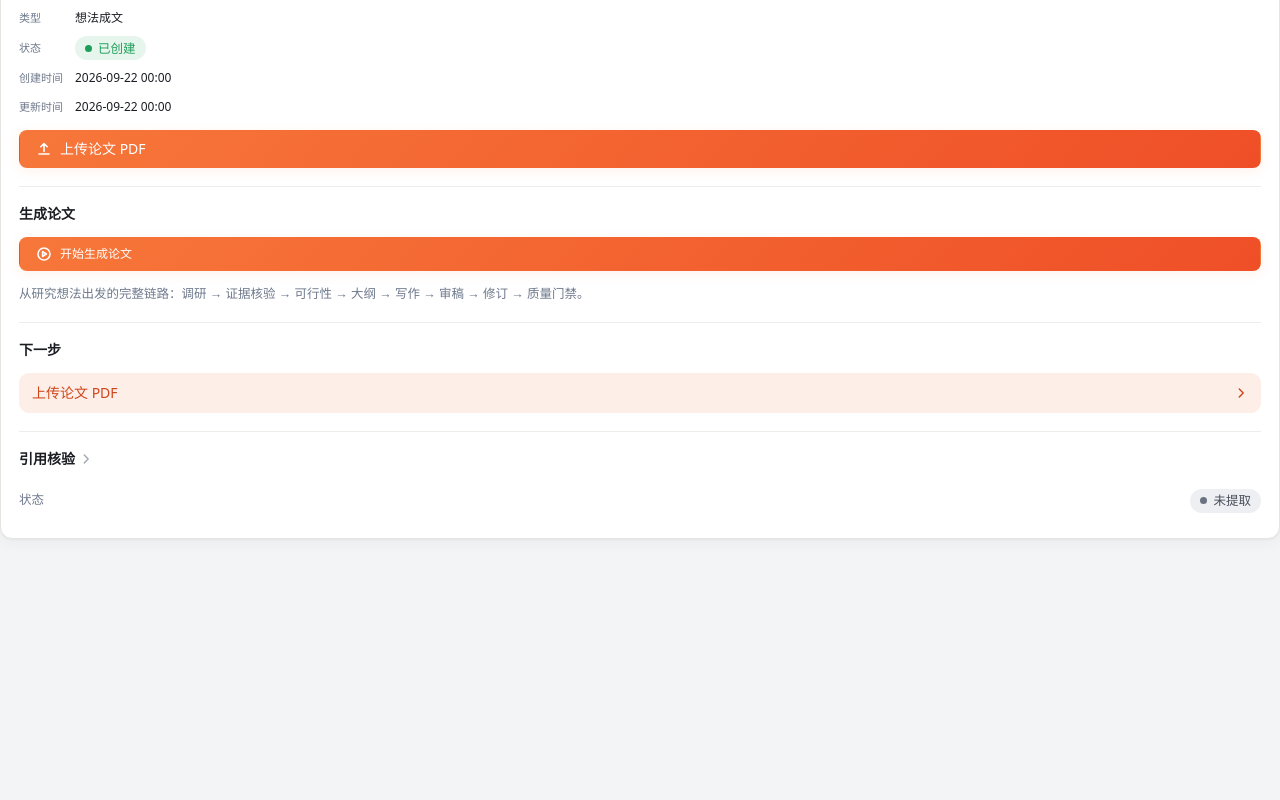
ProjectAside（M9.1 idea_to_paper 启动入口） › 启动失败（如后端 409 已有活跃 run）→ 错误如实呈现
Click the button with test id "aside-start-paper": (96, 254) [19,237,1261,271]
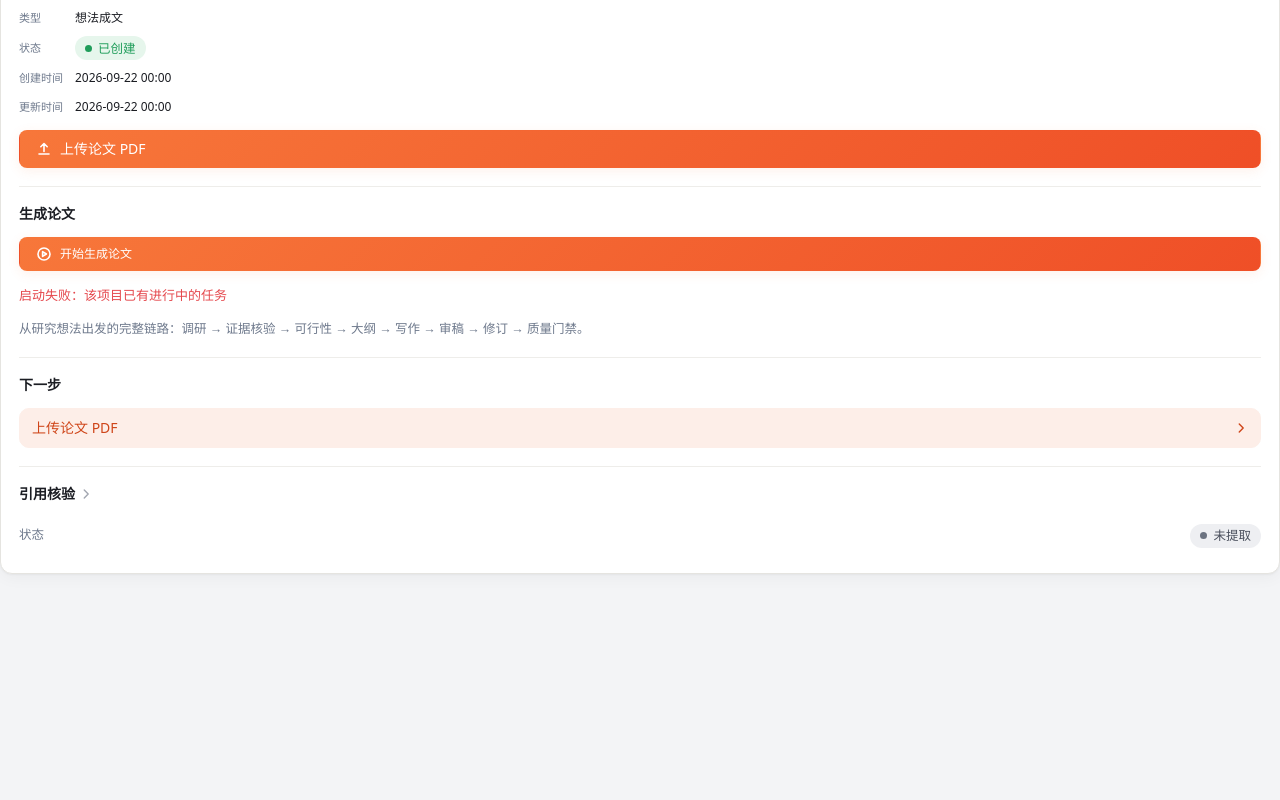
Result: the text "启动失败：该项目已有进行中的任务" is shown at [19,286,227,304]
